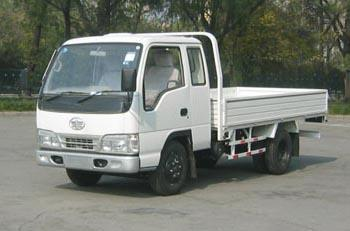smalltruck: (33, 22, 331, 187)
